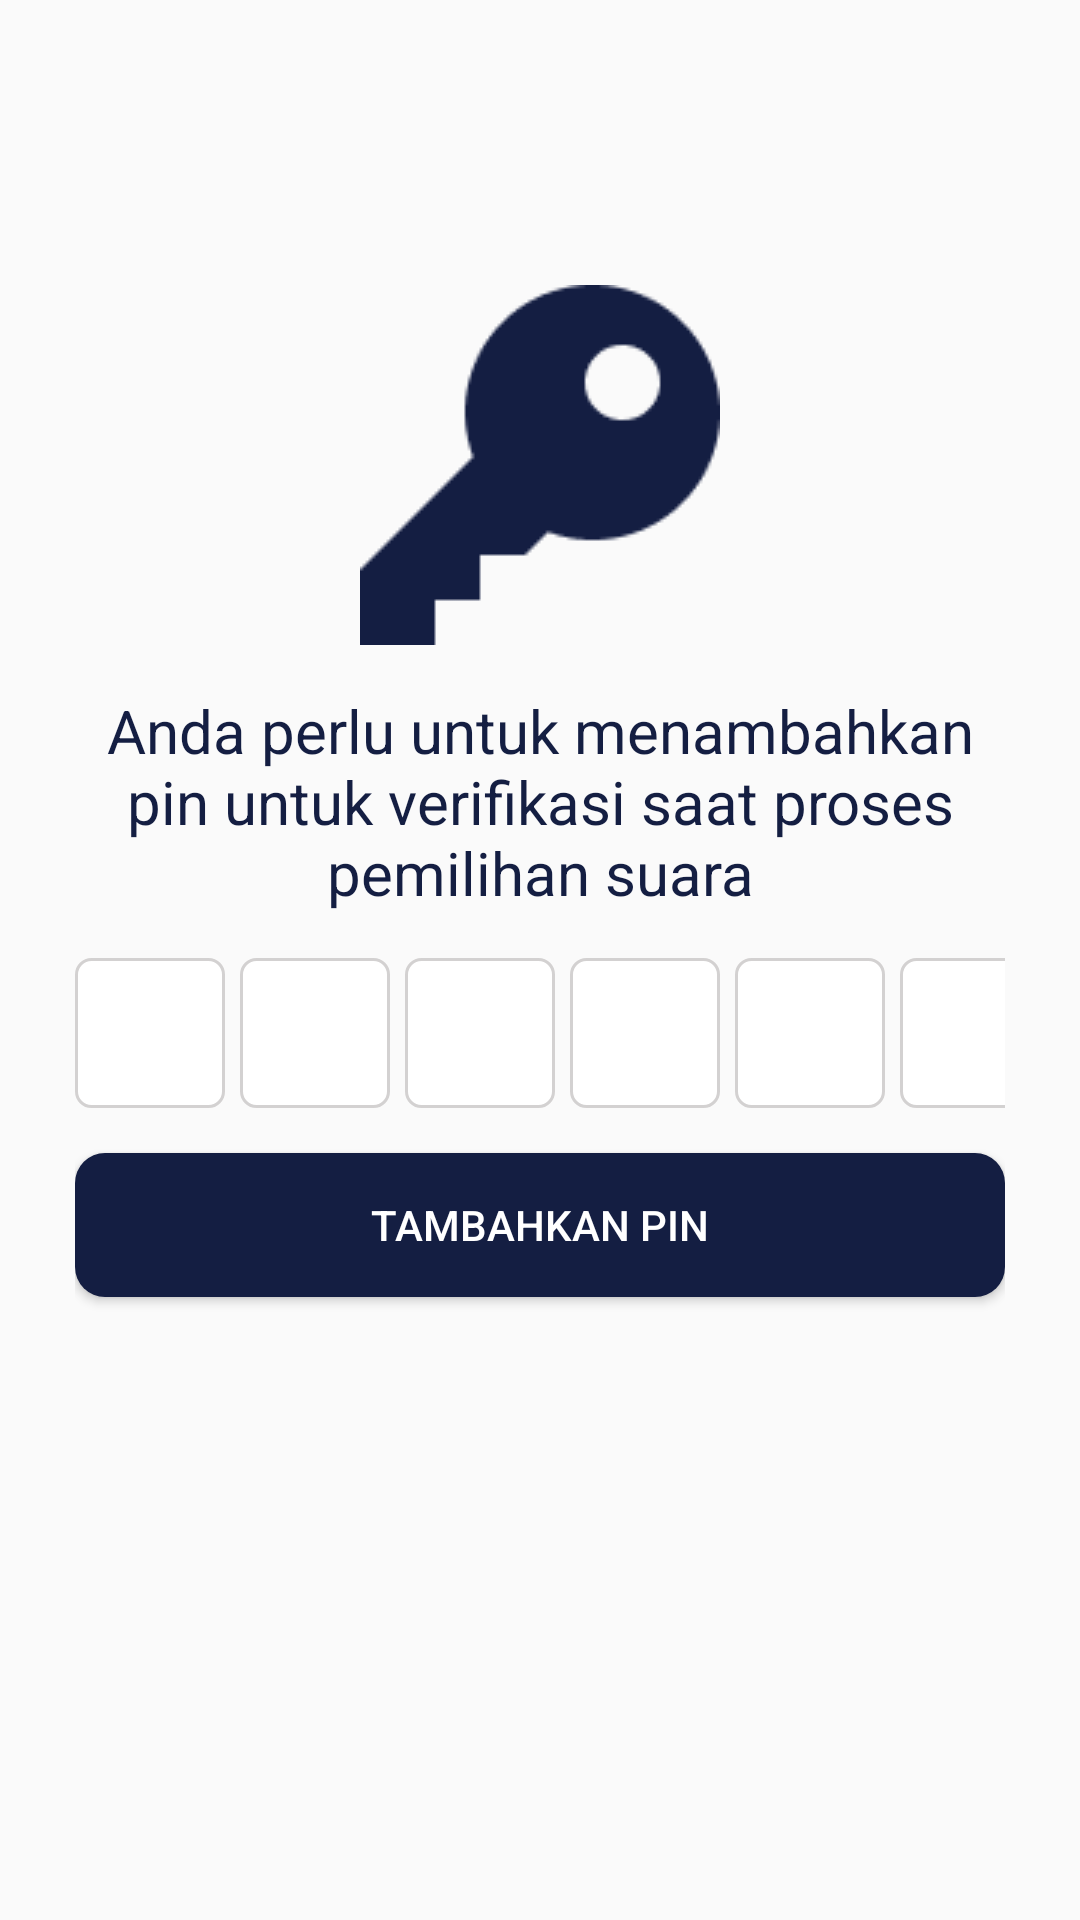

Locate icon controls on the screen. Image size 1080px x 1920px, boxes as (x1, y1, x2, y2).
key vektor: (360, 285, 720, 645)
